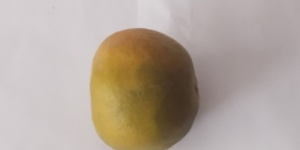BAD: (90, 24, 200, 150)
